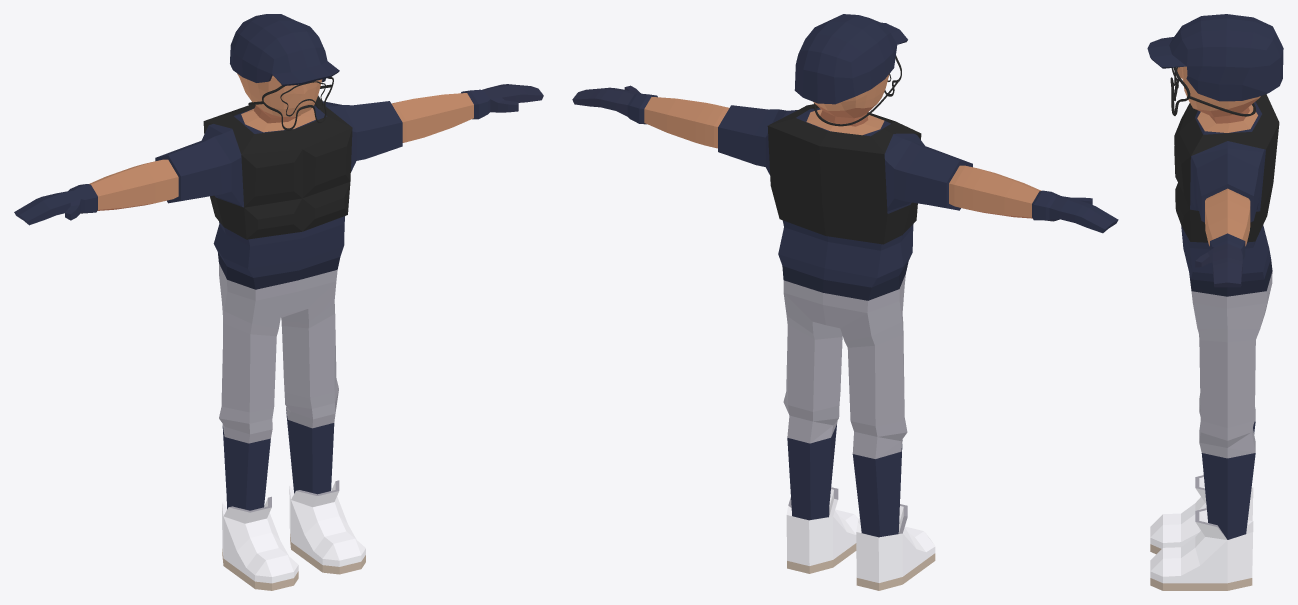
Rendered from Catcher.glb.
3 views of the same model, side by side, from view 1: azimuth 30°, elevation 25°; view 2: azimuth 150°, elevation 25°; view 3: azimuth 270°, elevation 25° (orthographic). The views are drawn at different scales.
Visible parts, largest first — view 1: Body.002, Body.003, Helmet.001, NurbsPath; view 2: Body.002, Body.003, Helmet.001; view 3: Body.002, Helmet.001, Body.003, NurbsPath.
Boxes of the visible parts, bbox=[...] form: Body.002: bbox=[14, 73, 543, 590]; Body.003: bbox=[203, 95, 352, 239]; Helmet.001: bbox=[230, 14, 339, 85]; NurbsPath: bbox=[248, 77, 333, 130]; Body.002: bbox=[572, 74, 1118, 590]; Body.003: bbox=[767, 104, 921, 244]; Helmet.001: bbox=[794, 14, 907, 104]; Body.002: bbox=[1150, 66, 1272, 590]; Helmet.001: bbox=[1147, 14, 1283, 101]; Body.003: bbox=[1174, 94, 1279, 242]; NurbsPath: bbox=[1170, 67, 1255, 116].
Bounding box in the file's own units: 4.25 × 4.16 × 0.9417.
Materials: 3 (3 with a texture image).
